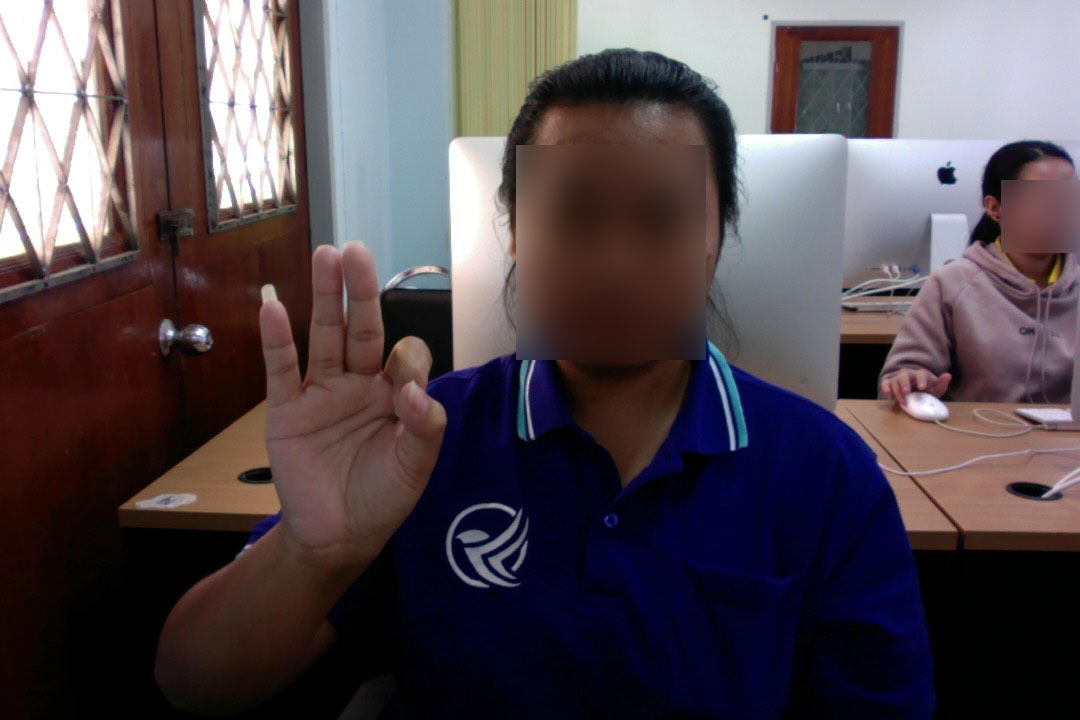for: (244, 234, 456, 564)
